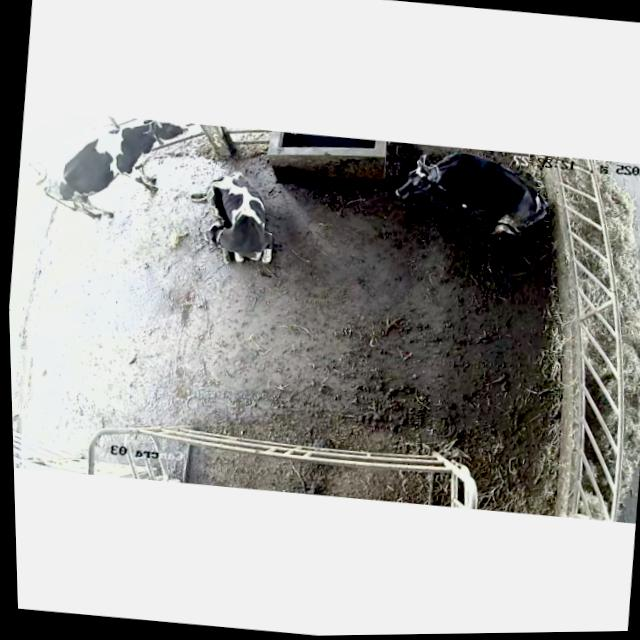stand: (49, 109, 196, 231)
